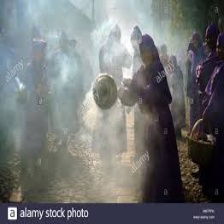smoke: (73, 99, 127, 154), (99, 29, 130, 69), (53, 49, 83, 87)
